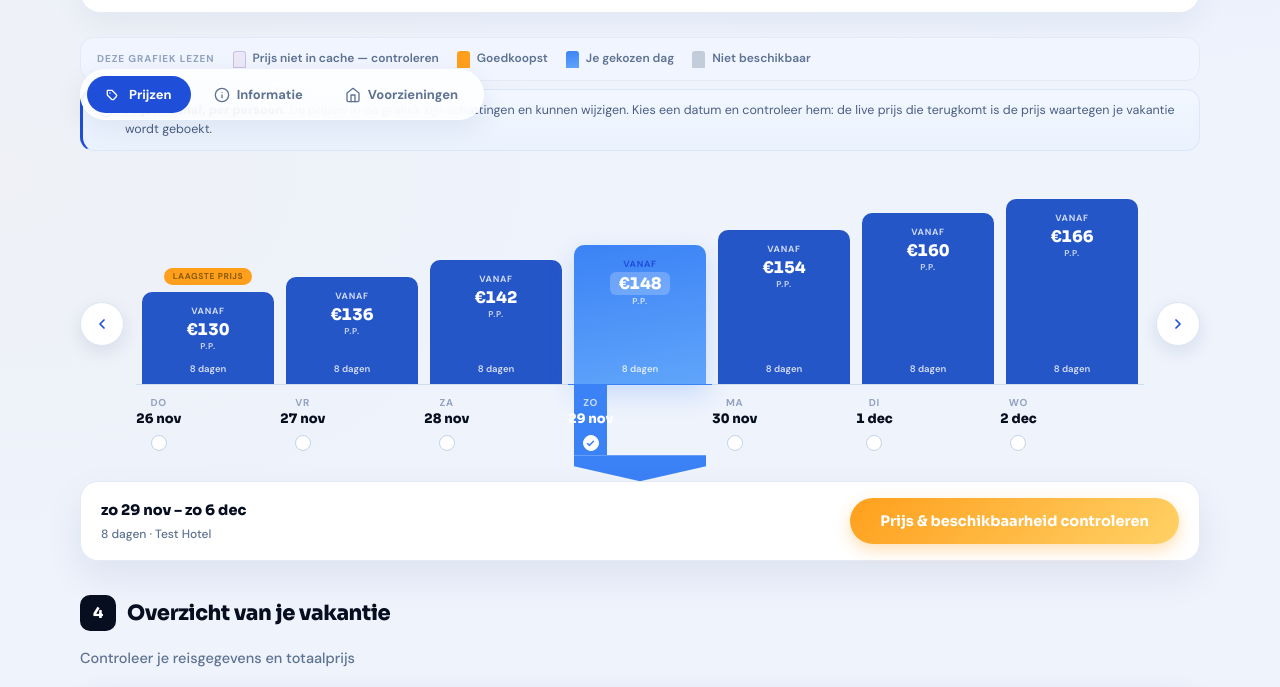
it: a supplier that could not answer › is not a sold-out hotel
(page scrolled)
Click the button "Laagste prijs vanaf €130 p.p. 8 dagen do 26 nov" at (208, 327), box x1=136 y1=173 x2=280 y2=481
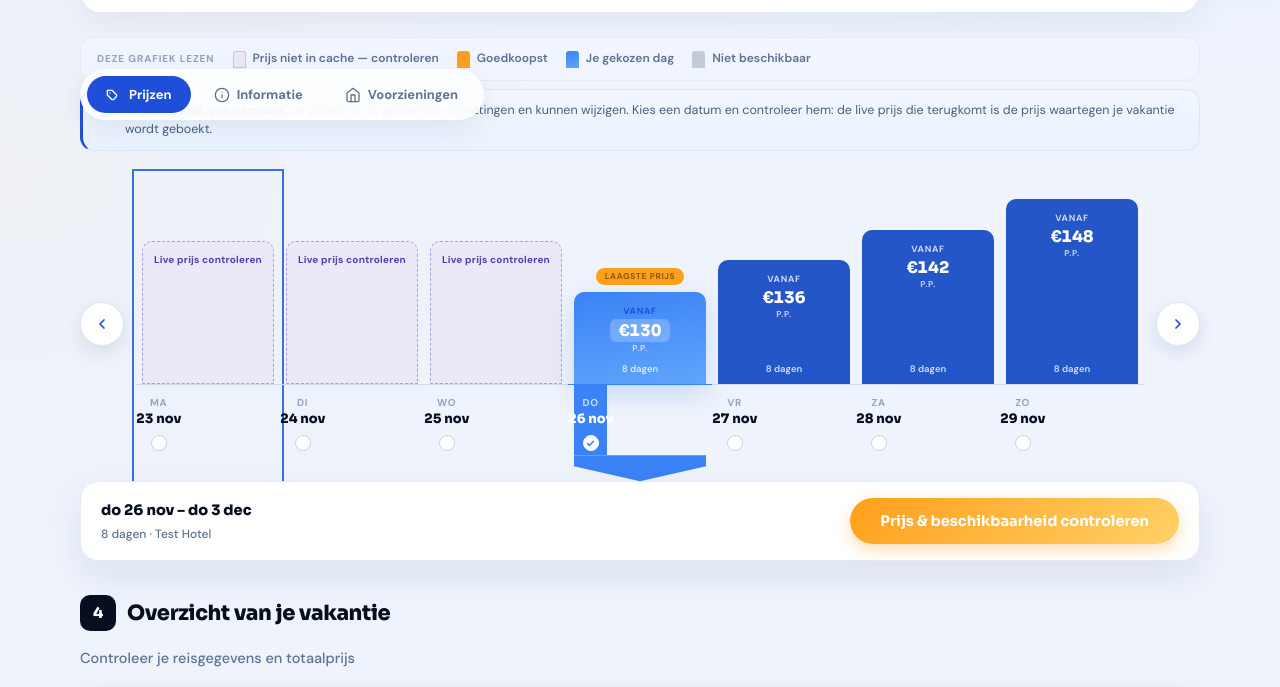
Click the button "Prijs & beschikbaarheid controleren" at (1015, 521), box x1=850 y1=498 x2=1179 y2=544
(page scrolled)
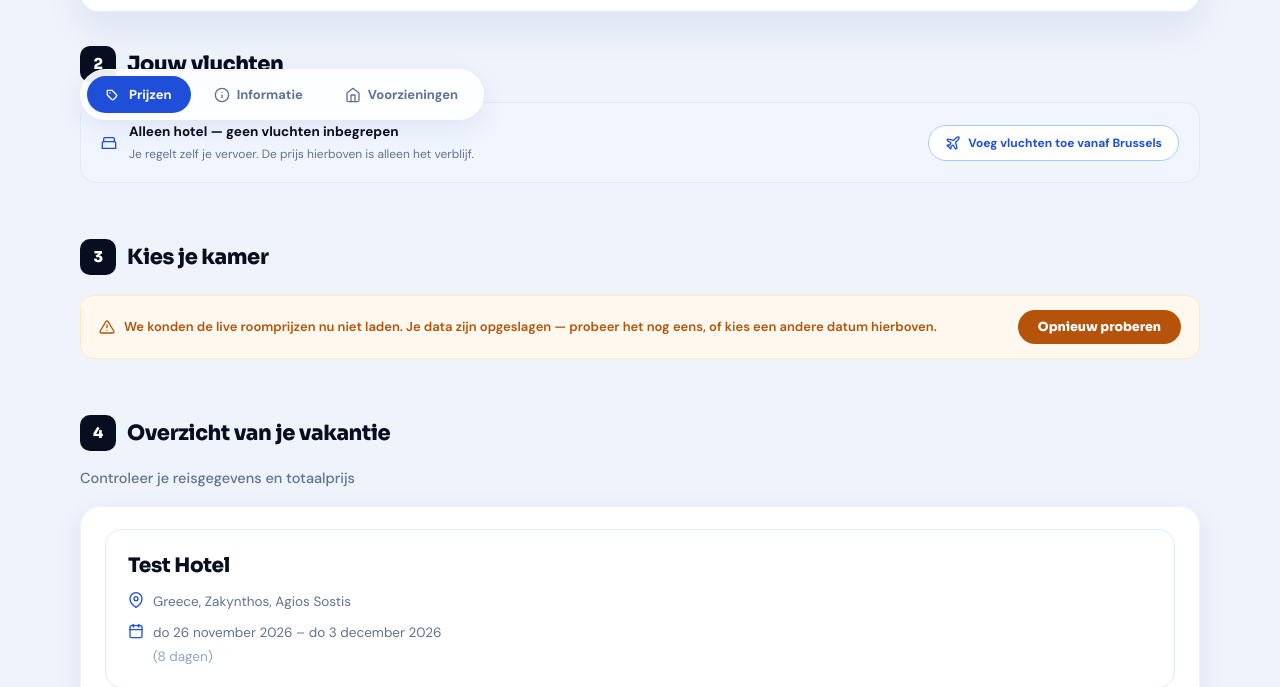
expect the element with class "live-error" is shown: met, box x1=80 y1=295 x2=1200 y2=359
expect the button "Niet beschikbaar" is gone: met
